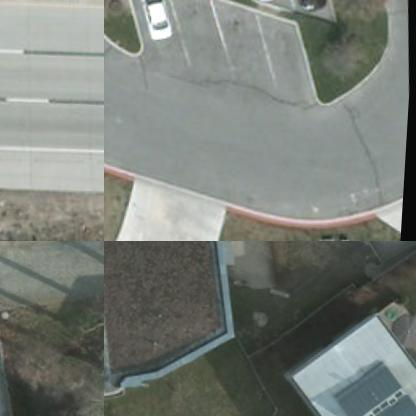car: (131, 0, 189, 44)
